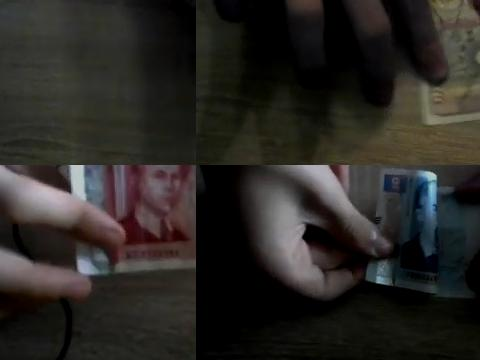10leva: (422, 0, 480, 124)
20leva: (369, 177, 480, 300)
5leva: (66, 165, 196, 267)
